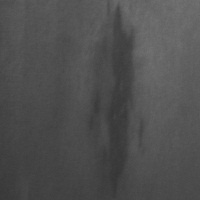inclusion: (92, 2, 146, 199)
